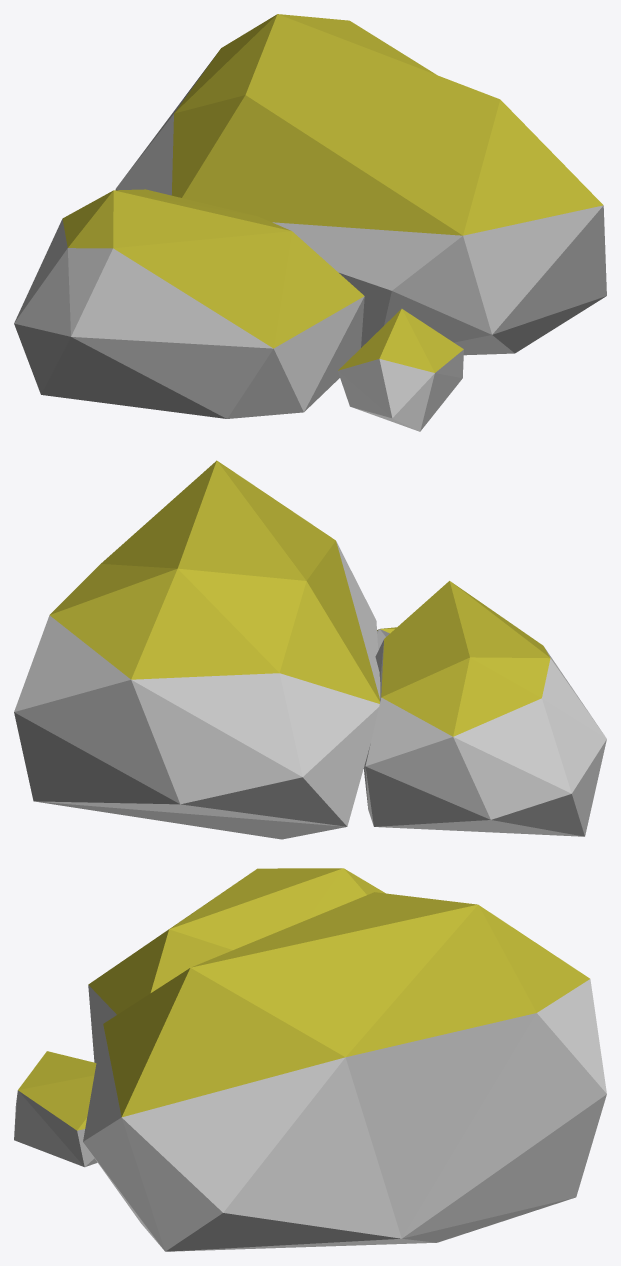
Rendered from Rocks.glb.
3 renders of one model, top to bottom at view 1: azimuth 30°, elevation 25°; view 2: azimuth 150°, elevation 25°; view 3: azimuth 270°, elevation 25°, orthographic. The views are drawn at different scales.
Parts seen in each view (by area): view 1: Mossy_Rock_Group_Env_02.001; view 2: Mossy_Rock_Group_Env_02.001; view 3: Mossy_Rock_Group_Env_02.001.
Part boxes in pixels (x1,y1,x2,y2): Mossy_Rock_Group_Env_02.001: [14, 14, 606, 431]; Mossy_Rock_Group_Env_02.001: [14, 460, 606, 839]; Mossy_Rock_Group_Env_02.001: [14, 868, 606, 1251].
Bounding box in the file's own units: 2.09 × 0.9957 × 1.86.
Materials: 1 (1 with a texture image).
